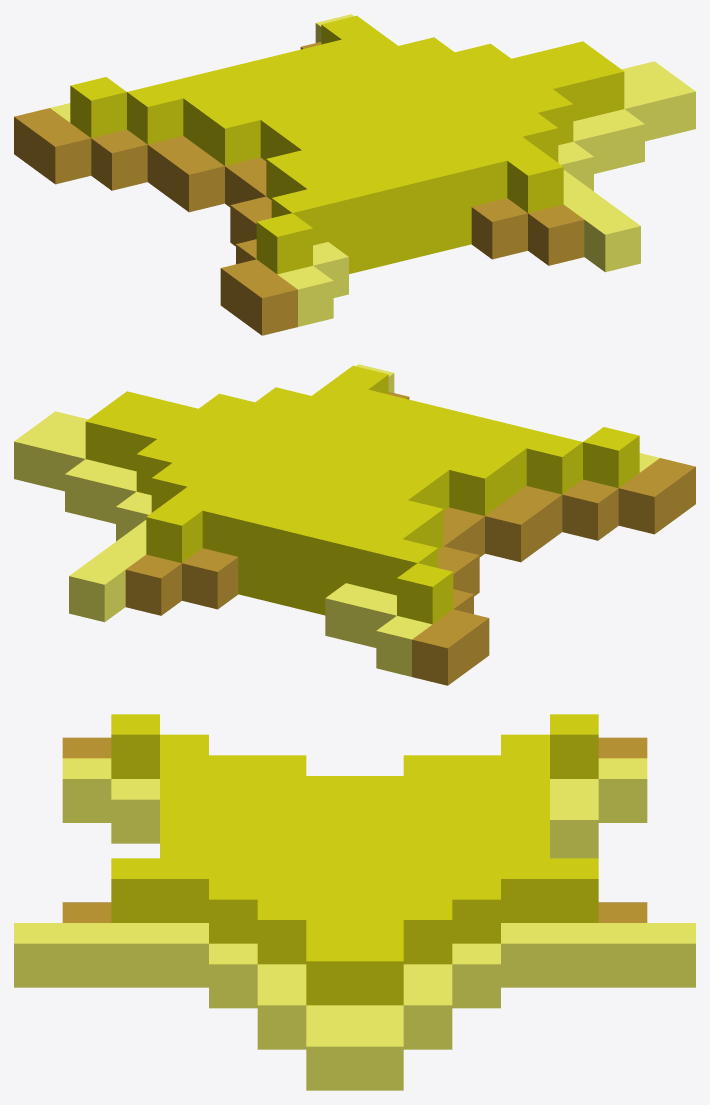
File: badge-3.obj
3 renders of one model, top to bottom at view 1: azimuth 30°, elevation 25°; view 2: azimuth 150°, elevation 25°; view 3: azimuth 270°, elevation 25°, orthographic. The views are drawn at different scales.
Bounding box in the file's own units: 1.5 × 0.2 × 1.4.
1 material, 1 textured.
